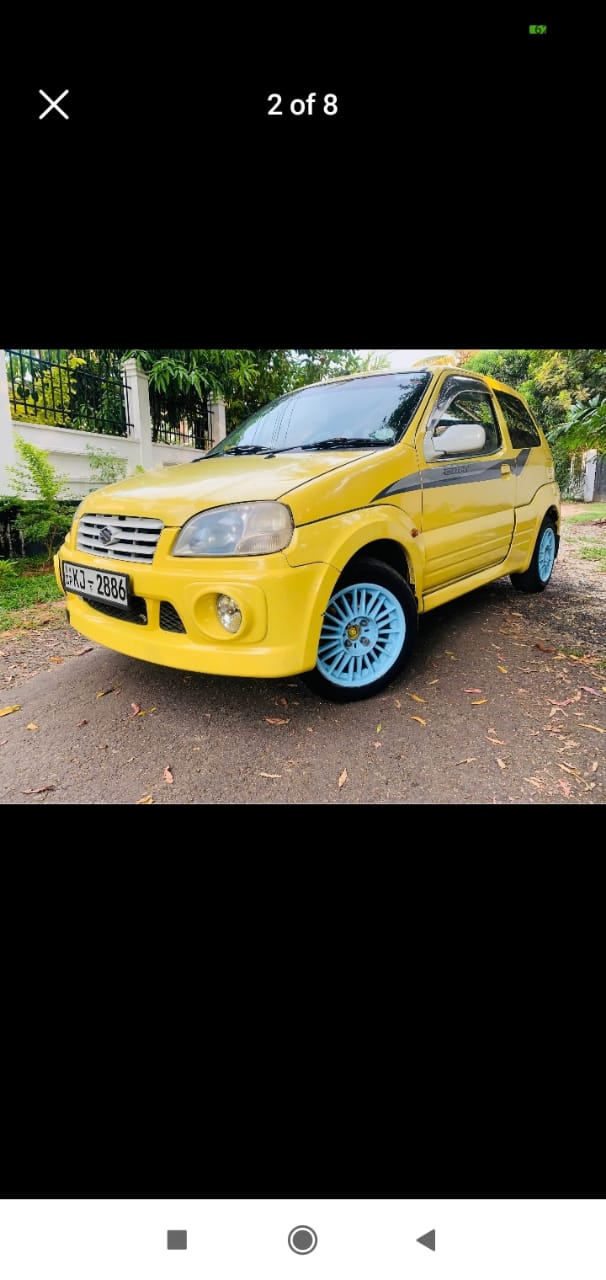number_plate: (58, 564, 133, 612)
